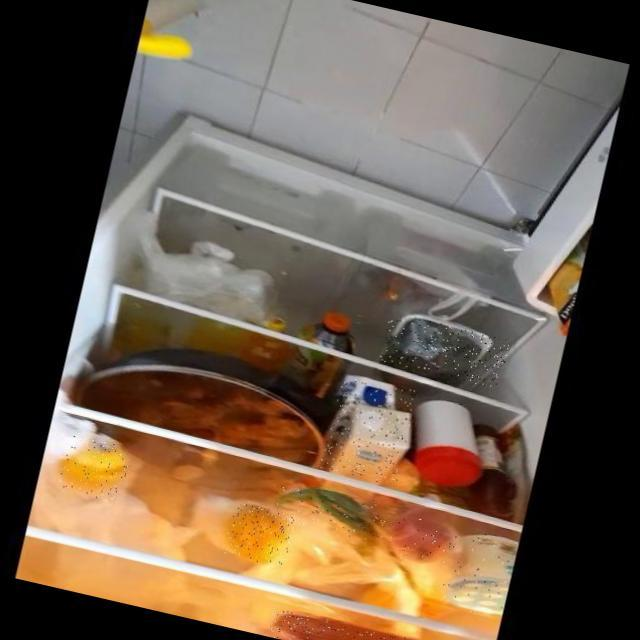Yogur: (438, 525, 517, 618)
Zanahoria: (267, 606, 444, 640)
